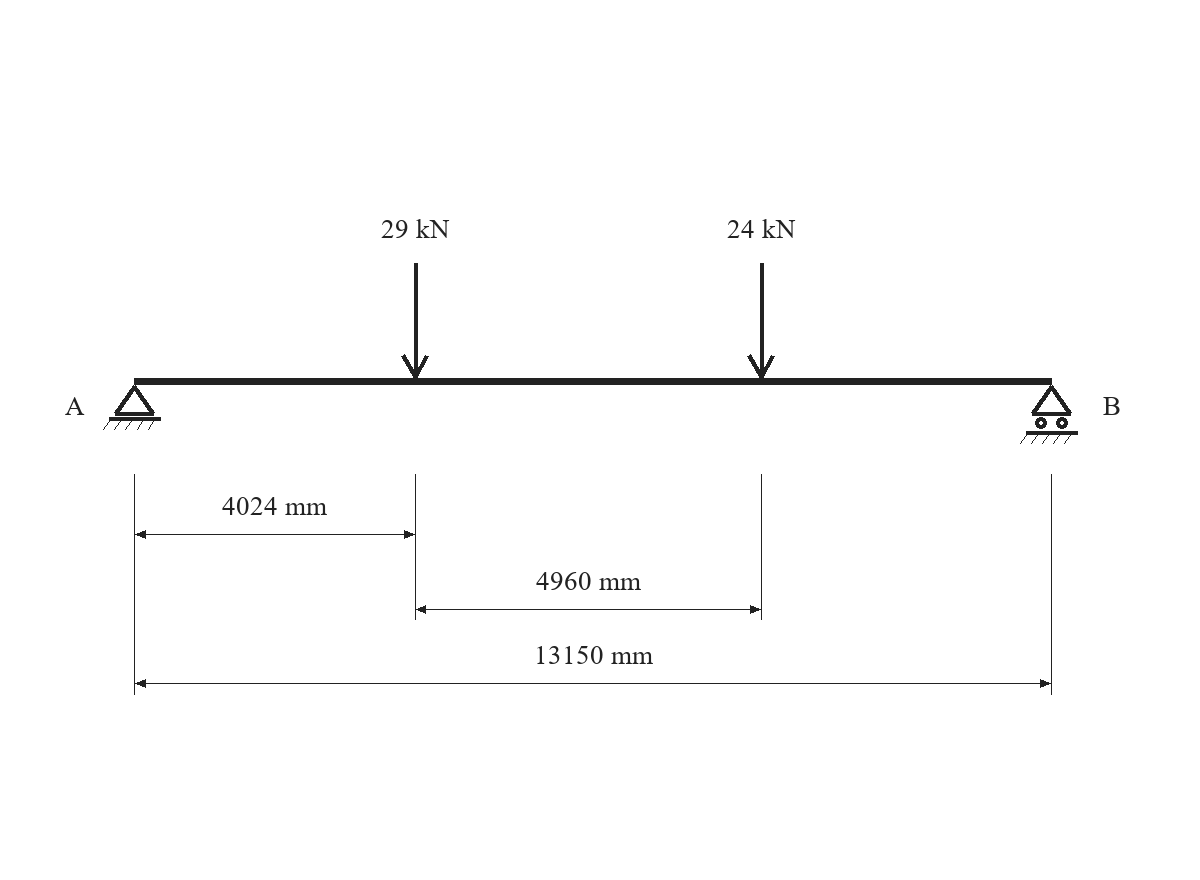pin_support: (103, 385, 161, 430)
point_load: (401, 263, 429, 379), (747, 263, 775, 379)
roller_support: (1020, 385, 1078, 444)
